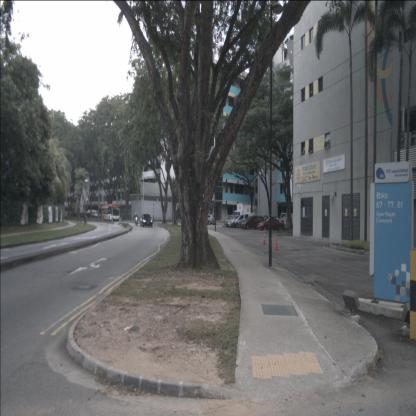human-pedestrian-adult: (98, 209, 99, 218)
movable_object-trafficcone: (274, 233, 278, 251), (262, 231, 266, 245)
vehicle-bus-rigid: (101, 204, 119, 221)
vehicle-car: (256, 217, 284, 231), (242, 215, 266, 230), (233, 213, 254, 228), (226, 215, 247, 227), (280, 213, 296, 226), (224, 215, 240, 226), (140, 214, 153, 227), (201, 215, 216, 225), (90, 210, 98, 218)
vehicle-motorcycle: (134, 212, 138, 226)
vehicle-truck: (233, 204, 260, 222)
